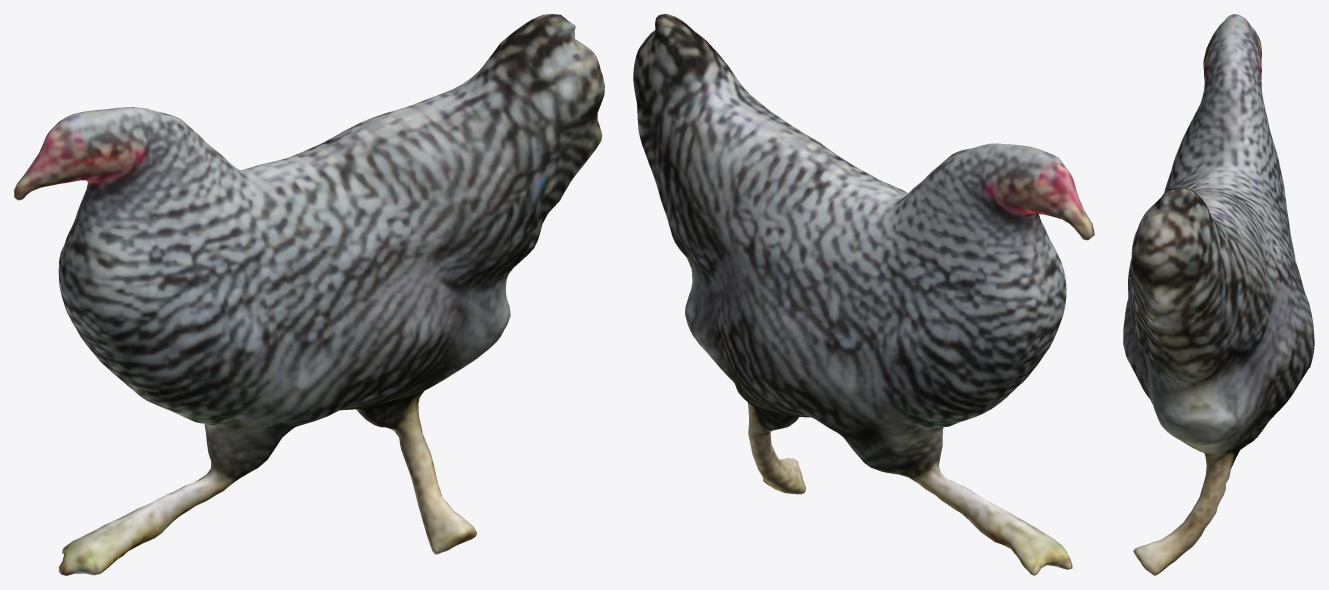
Rendered from joven.glb.
3 views of the same model, side by side, from view 1: azimuth 30°, elevation 25°; view 2: azimuth 150°, elevation 25°; view 3: azimuth 270°, elevation 25° (orthographic). The views are drawn at different scales.
Parts seen in each view (by area): view 1: mesh; view 2: mesh; view 3: mesh.
Boxes of the visible parts, x1=… form: mesh: x1=14, y1=14, x2=604, y2=575; mesh: x1=633, y1=14, x2=1094, y2=575; mesh: x1=1123, y1=14, x2=1314, y2=575.
Size of the model in its own units: 1.58 by 1.39 by 0.5621.
1 material, 1 textured.
